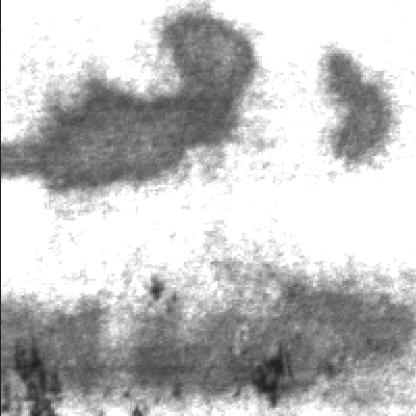patches: (0, 21, 250, 193), (127, 284, 408, 402), (0, 292, 131, 402), (308, 42, 391, 160)
